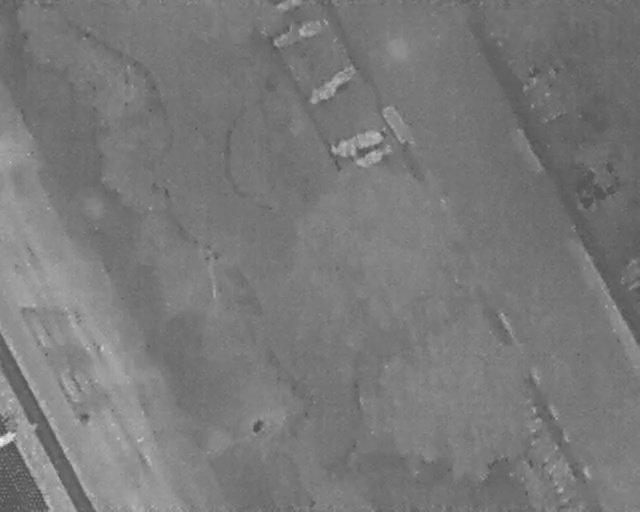Bicycle: (305, 59, 360, 108), (269, 12, 332, 52), (324, 127, 387, 161), (351, 139, 395, 175)
